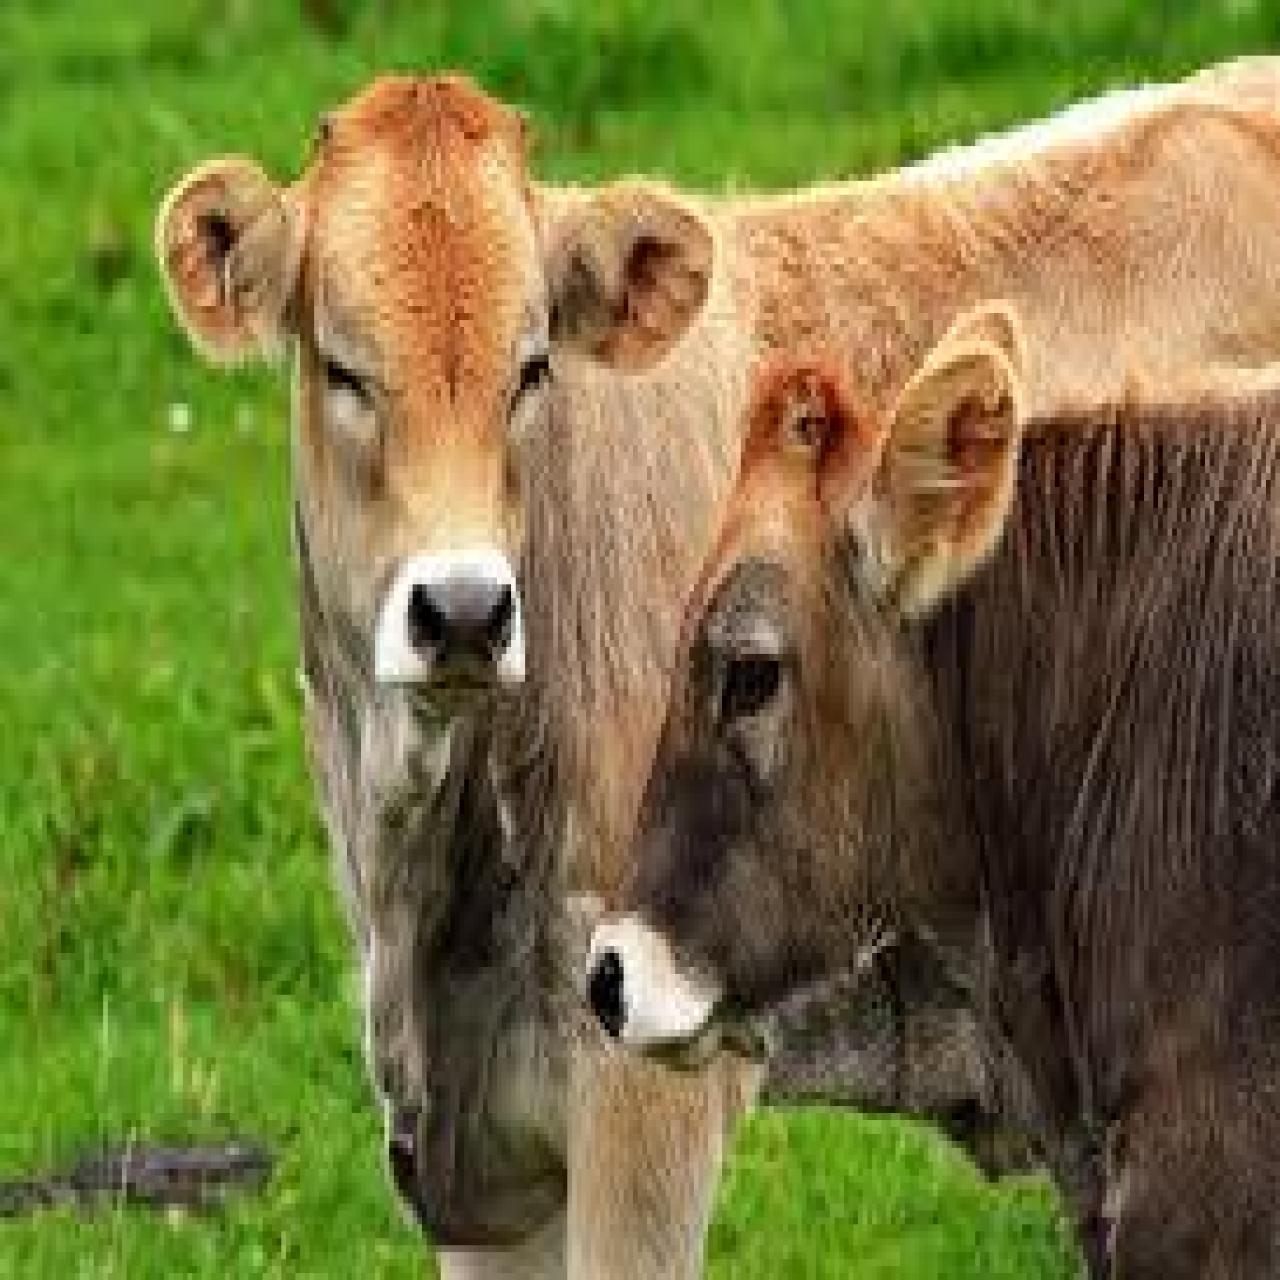cow: (154, 69, 1280, 1280), (581, 292, 1280, 1280)
